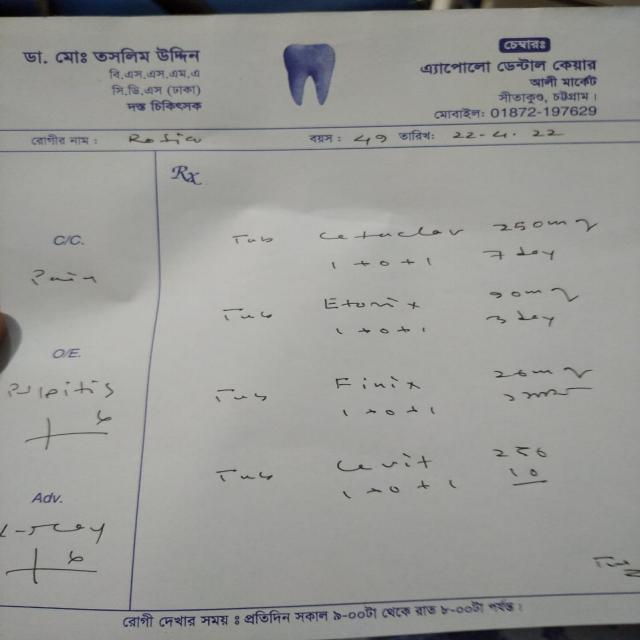Cefuclav: (311, 221, 471, 247)
Cevit: (323, 450, 435, 476)
Etorix: (318, 293, 424, 317)
Finix: (329, 370, 425, 397)
